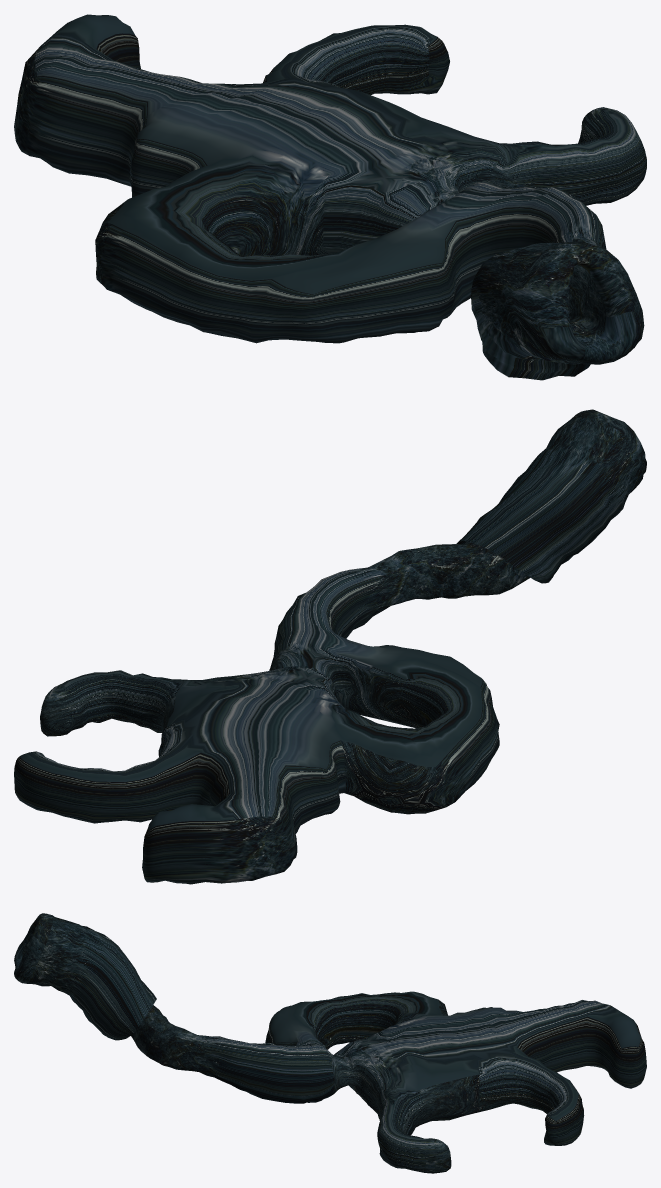
Rendered from presentation_cave.glb.
3 renders of one model, top to bottom at view 1: azimuth 30°, elevation 25°; view 2: azimuth 150°, elevation 25°; view 3: azimuth 270°, elevation 25°, orthographic. The views are drawn at different scales.
Visible parts, largest first — view 1: PresentationCave-Col; view 2: PresentationCave-Col; view 3: PresentationCave-Col.
Part boxes in pixels (x1,y1,x2,y2): PresentationCave-Col: [14, 14, 646, 380]; PresentationCave-Col: [14, 409, 646, 884]; PresentationCave-Col: [14, 913, 646, 1173].
Size of the model in its own units: 35.16 by 16.6 by 63.94.
1 material, 1 textured.
